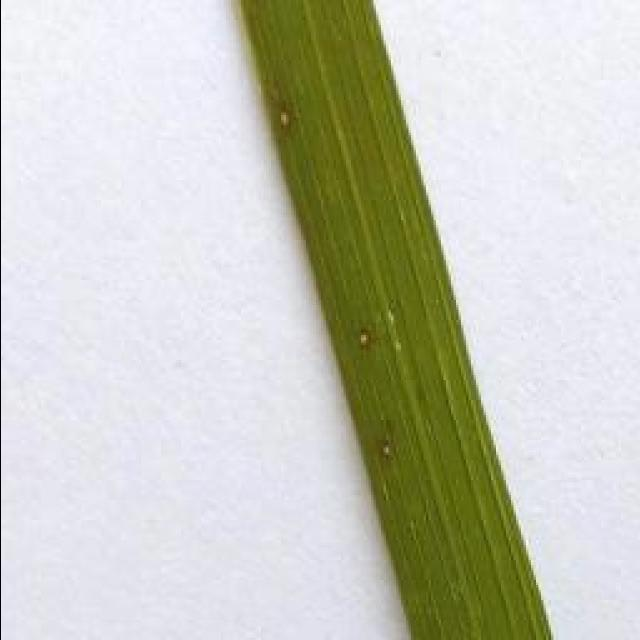Unhealthy: (276, 103, 292, 132), (357, 326, 371, 349), (379, 440, 391, 459)
